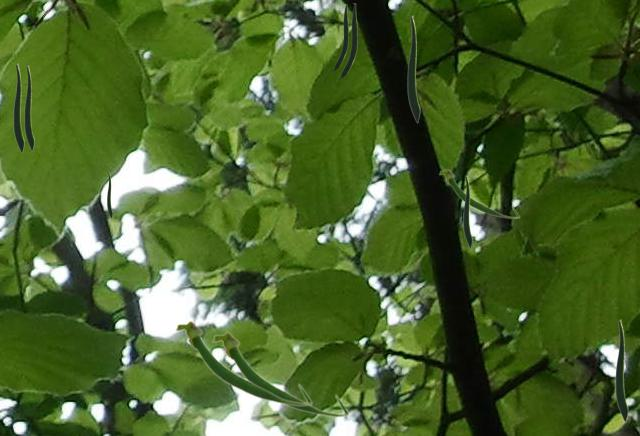french_bean: (211, 331, 349, 417), (174, 320, 312, 406), (438, 168, 519, 218), (337, 3, 356, 79), (407, 15, 419, 122), (615, 319, 627, 421), (331, 4, 347, 71), (13, 63, 23, 152), (24, 65, 33, 150), (463, 175, 471, 247), (107, 172, 111, 217)
